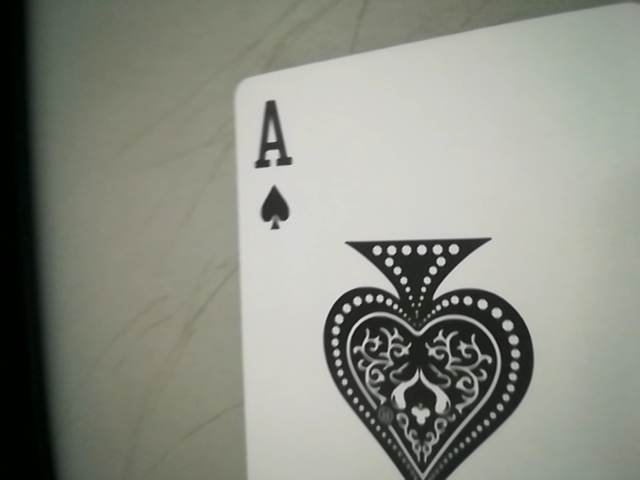ht a: (238, 89, 298, 231)
